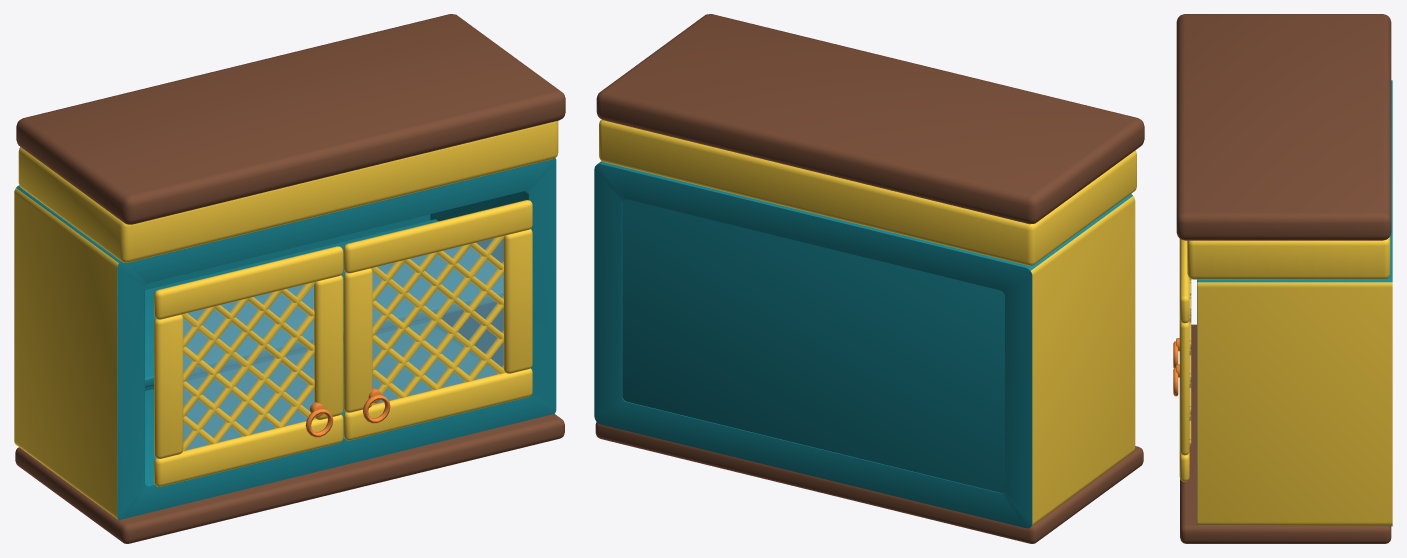
The model's file is armario_parede_trelica_colonial.glb.
The picture shows the model from 3 angles, left to right: view 1: azimuth 30°, elevation 25°; view 2: azimuth 150°, elevation 25°; view 3: azimuth 270°, elevation 25°; orthographic projection. The views are drawn at different scales.
Visible parts, largest first — view 1: armario_parede_trelica_colonial, porta_2, porta_1; view 2: armario_parede_trelica_colonial; view 3: armario_parede_trelica_colonial, porta_2.
Part boxes in pixels (x1,y1,x2,y2): armario_parede_trelica_colonial: (14, 14, 565, 543); porta_2: (343, 200, 532, 440); porta_1: (154, 246, 343, 486); armario_parede_trelica_colonial: (594, 14, 1144, 543); armario_parede_trelica_colonial: (1176, 14, 1392, 543); porta_2: (1173, 238, 1191, 481).
Bounding box in the file's own units: 0.798 × 0.6 × 0.3612.
Materials: 2 (1 with a texture image).
